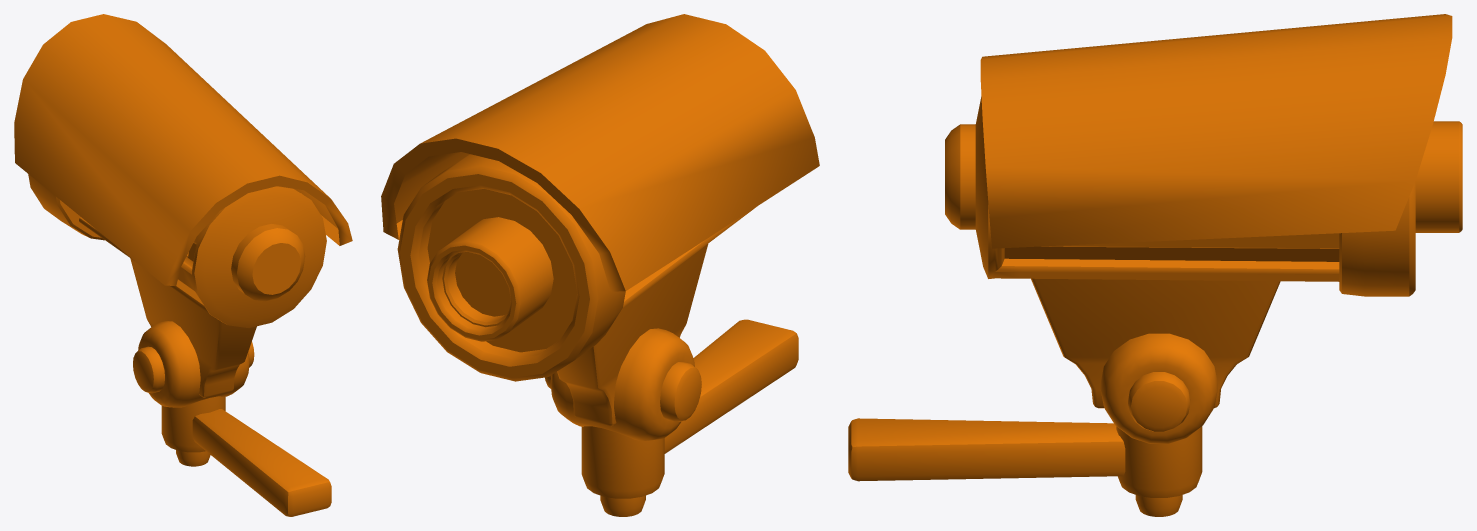
File: SM_Camera.fbx
3 renders of one model, left to right at view 1: azimuth 30°, elevation 25°; view 2: azimuth 150°, elevation 25°; view 3: azimuth 270°, elevation 25°, orthographic. The views are drawn at different scales.
Parts seen in each view (by area): view 1: SM_Camera; view 2: SM_Camera; view 3: SM_Camera.
Boxes of the visible parts, x1,y1,x2,y2 form: SM_Camera: [14, 14, 352, 516]; SM_Camera: [381, 14, 819, 516]; SM_Camera: [848, 14, 1462, 516].
Size of the model in its own units: 27.99 by 51.65 by 59.42.
